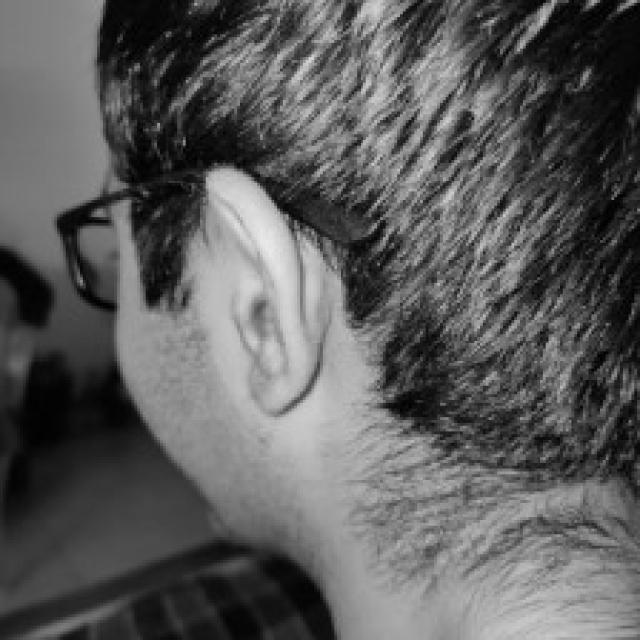ear: (206, 166, 320, 411)
